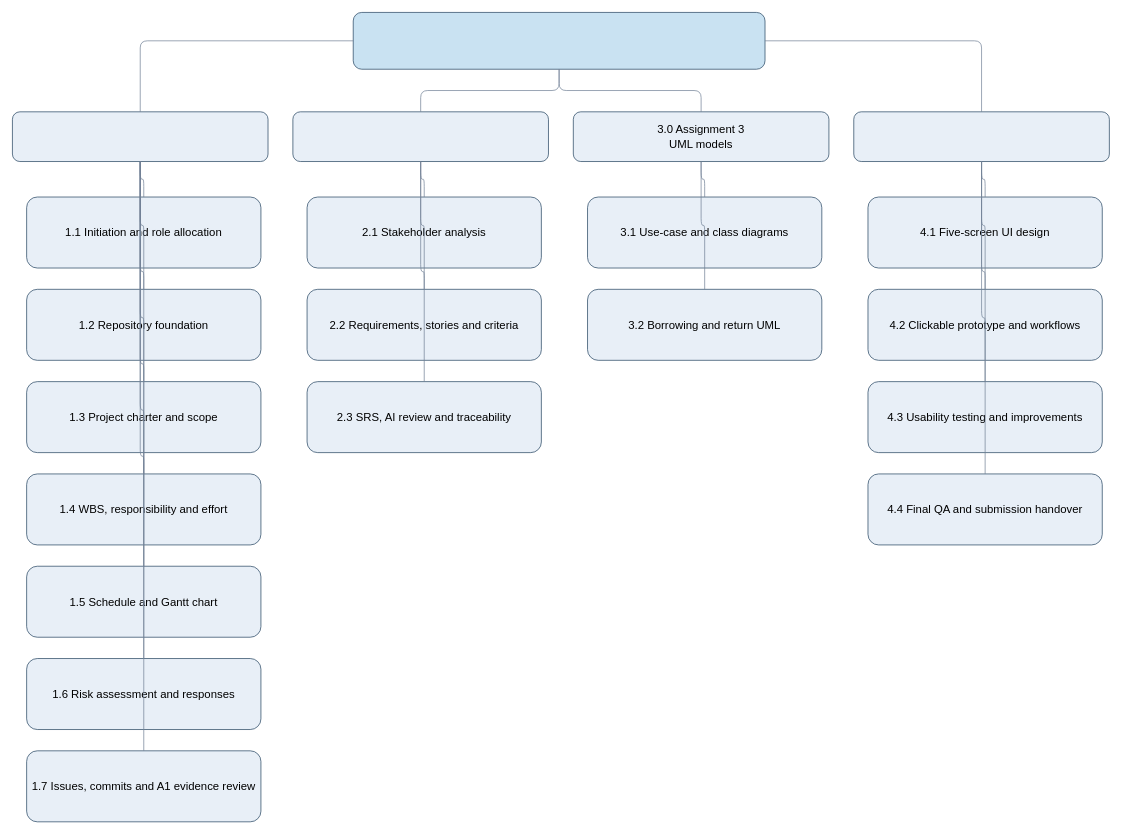
Some shapes in this 1122 by 834 pixel diagram are drawn without their labels. The centre of each missing label's shape, as x and y in pixels:
0.0 University Library Management System Coursework planning / design: the point at 559,40
1.0 Assignment 1 Planning and GitHub: the point at 140,136
2.0 Assignment 2 Requirements and SRS: the point at 420,136
4.0 Assignment 4 Prototype and review: the point at 981,136
